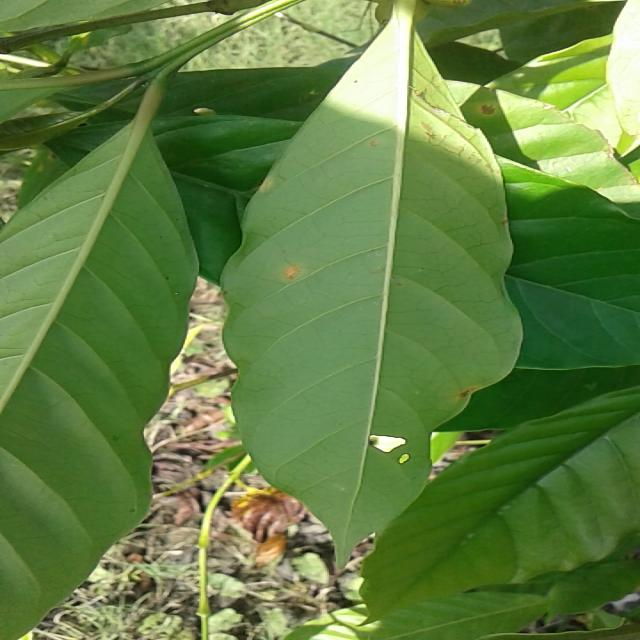Enfermedad-Roya: (222, 0, 524, 574)
